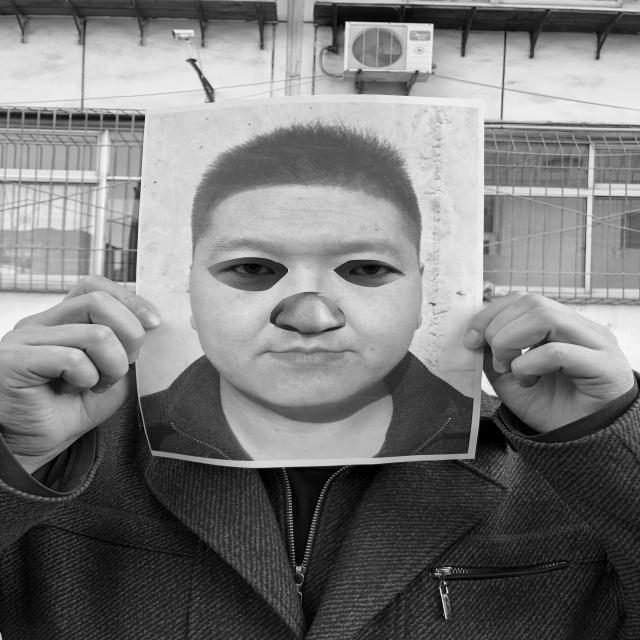real: (132, 92, 504, 469)
